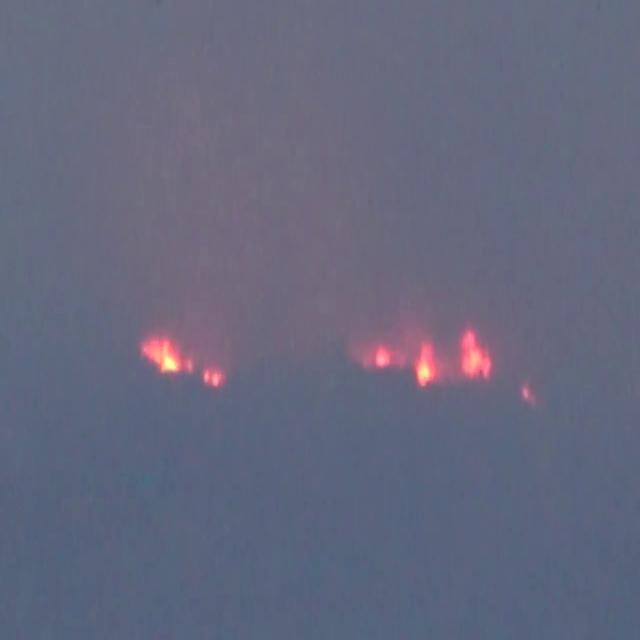Fire: (142, 338, 192, 376), (460, 337, 490, 377), (413, 344, 435, 383), (200, 367, 224, 388), (372, 347, 390, 367)
Smoke: (3, 3, 637, 634)
